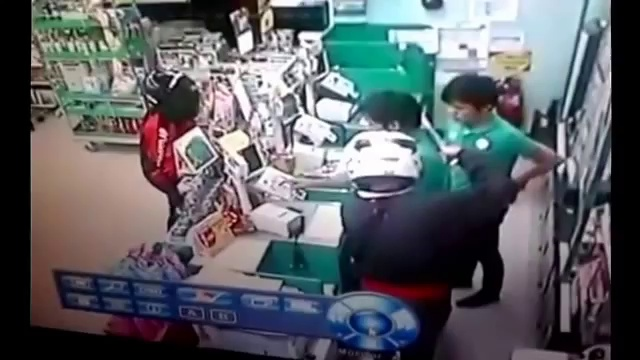helmet: (338, 128, 427, 192), (137, 62, 201, 119)
